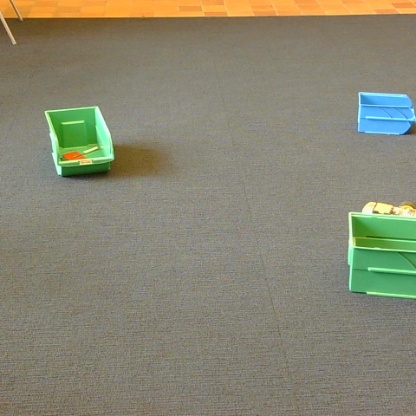robot: (363, 201, 415, 217)
